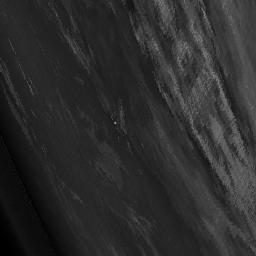Target: (112, 121, 117, 125)
